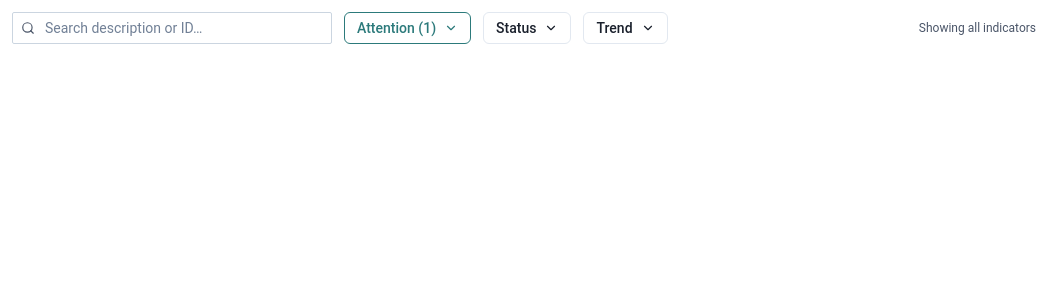
attention menu — the tiles, as a dropdown › reflects state set from a tile, so the two controls stay in step
Step 1. Click the button "Attention (1)" → (408, 28), box top-left (344, 12), bottom-right (471, 44)
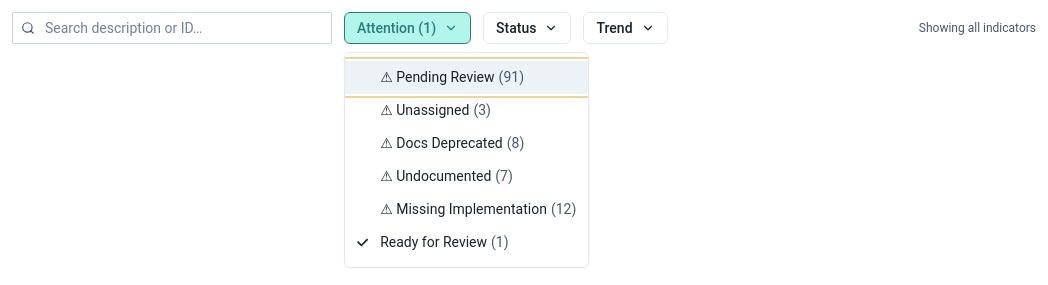
Expected: the menu item "Ready for Review(1)" is checked, top-left (345, 226), bottom-right (588, 259)
Expected: the menu item "⚠ Unassigned(3)" is not checked, top-left (345, 94), bottom-right (588, 127)
